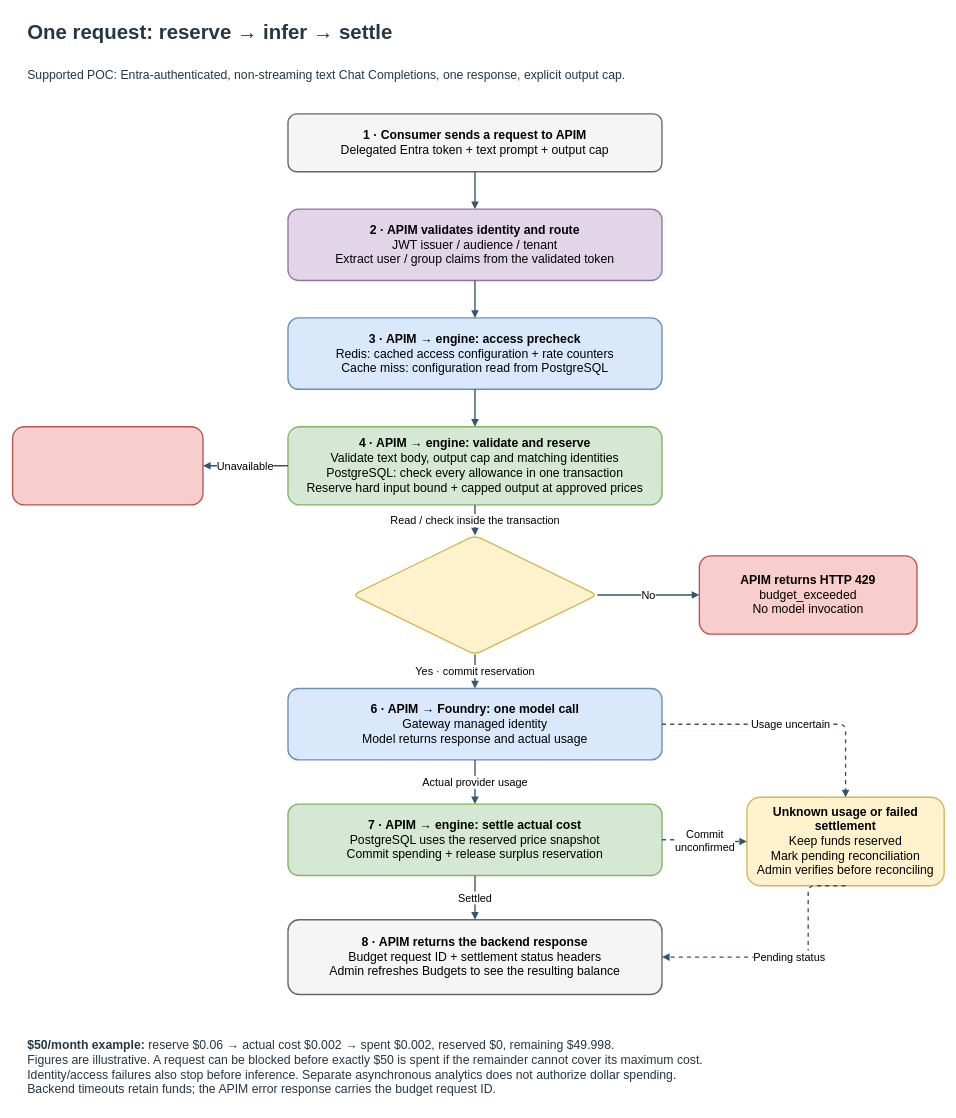
Image size: 956x1118. Some labels were removed from this diagram. The shapes that lost their labels are listed below. From the top down, each one's box as (x1, y1, x2, y2) in pixels, then its label:
(12, 426, 203, 505): Budget store unavailable APIM denies with HTTP 503 No model invocation
(352, 534, 598, 655): 5 · Funds available in every bucket? spent + reserved + new maximum ≤ limit
